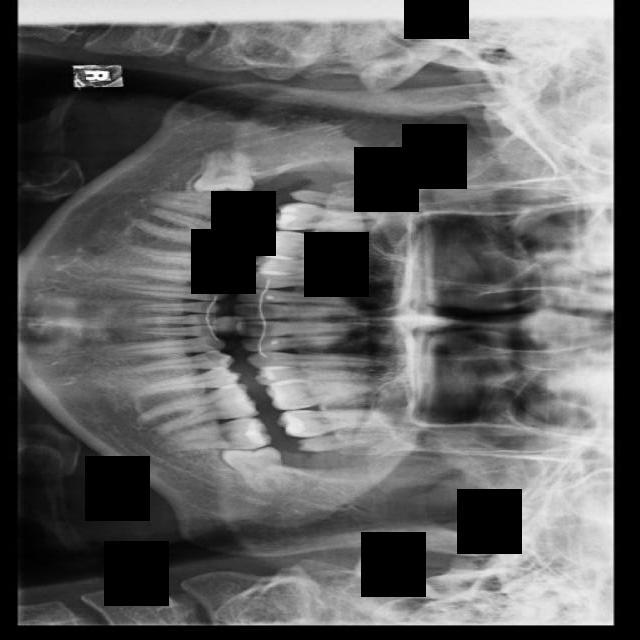3M ESPE Implant: (288, 188, 385, 211)
52: (274, 405, 332, 442), (222, 415, 271, 453), (214, 187, 264, 224), (270, 201, 324, 230), (236, 288, 285, 302), (242, 337, 287, 351)
73: (60, 537, 66, 540)
BioHorizons Implant: (275, 409, 395, 438)
BioLife Implant: (297, 429, 391, 454)
Biomet 3i Implant: (220, 445, 292, 497)
Blue Sky Bio Implant: (158, 416, 271, 455)
Caries: (270, 201, 395, 233)
Implant: (148, 175, 266, 225)
Keystone Dental Implant: (194, 151, 254, 194)
